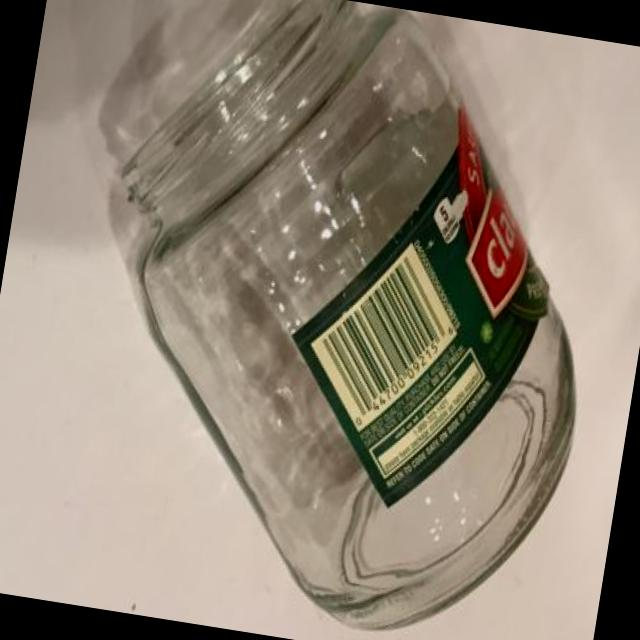chai_thuy_tinh: (109, 0, 576, 627)
